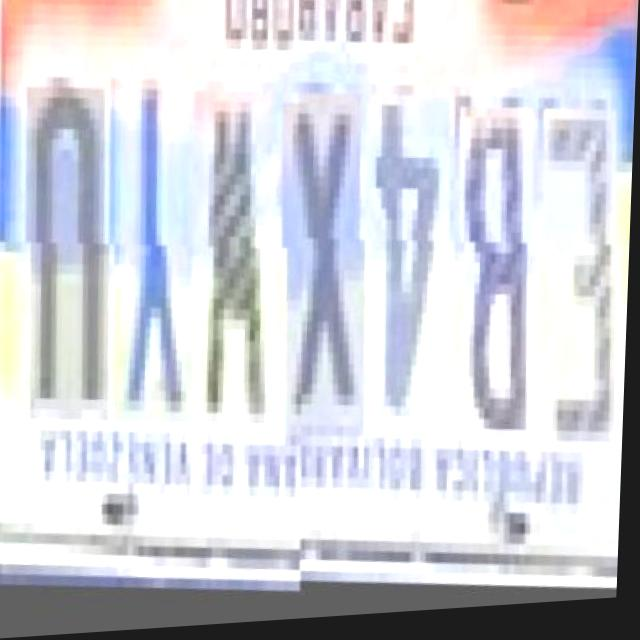4: (360, 100, 462, 454)
b: (454, 112, 546, 465)
e: (538, 114, 630, 466)
u: (20, 84, 117, 427)
w: (189, 87, 284, 440)
x: (276, 98, 374, 452)
y: (104, 75, 201, 428)
